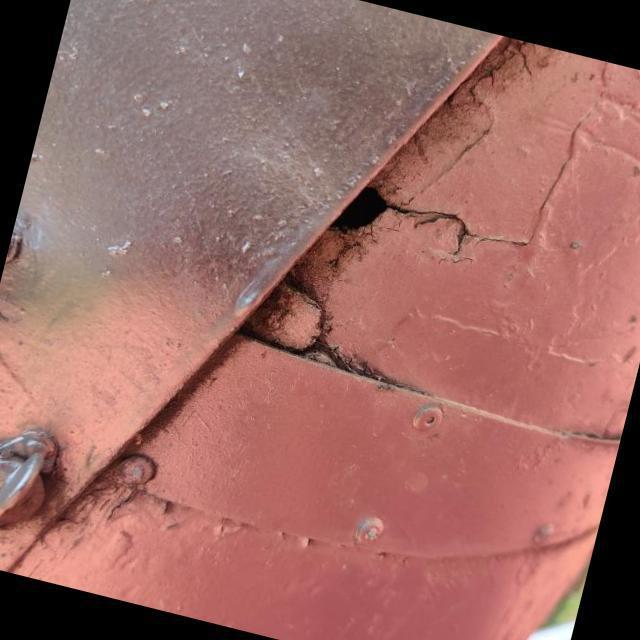Rupture: (299, 154, 492, 288)
